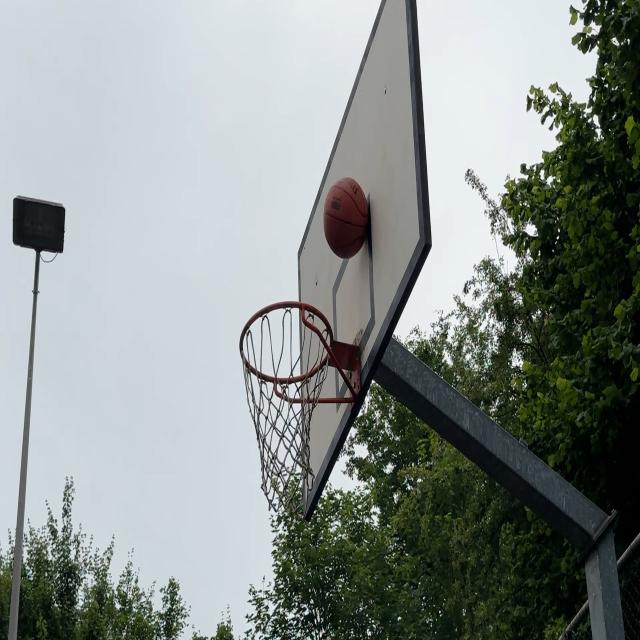rebound_hit: (324, 175, 374, 260)
